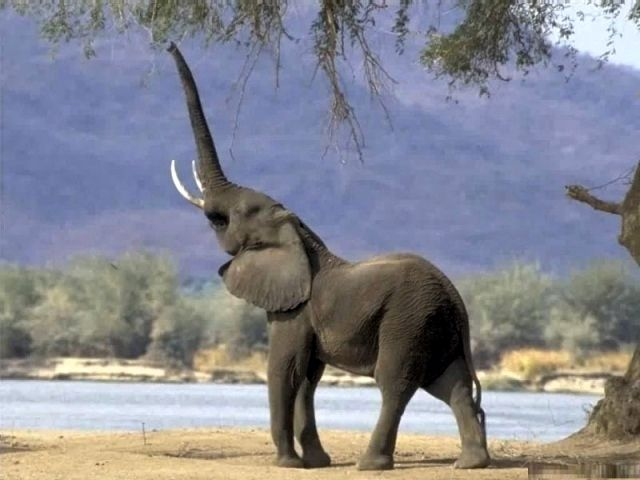elephant: (148, 29, 509, 474)
